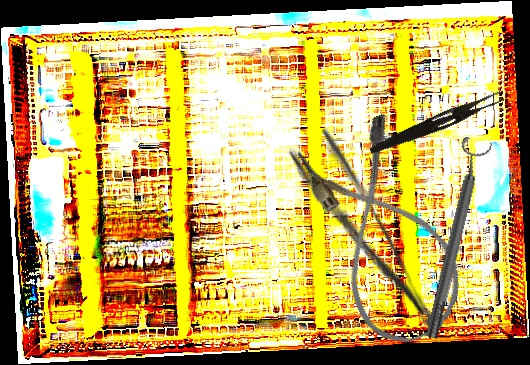Cannula: (291, 110, 478, 356)
Dressing Forceps: (285, 125, 443, 352), (368, 85, 505, 162)
Fixation Ring: (413, 136, 496, 341)
